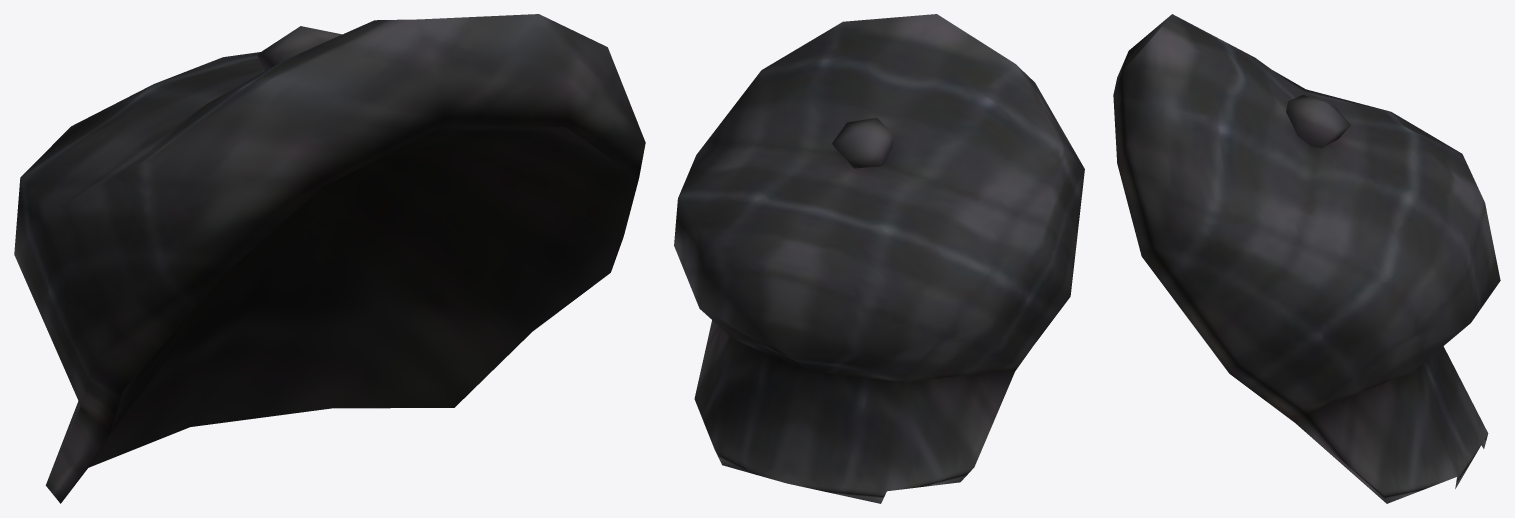
The model's file is butlerCap.glb.
3 views of the same model, side by side, from view 1: azimuth 30°, elevation 25°; view 2: azimuth 150°, elevation 25°; view 3: azimuth 270°, elevation 25° (orthographic). The views are drawn at different scales.
Visible parts, largest first — view 1: butlerCap; view 2: butlerCap; view 3: butlerCap.
Part boxes in pixels (left/top/right/bottom): butlerCap: left=14, top=14, right=645, bottom=503; butlerCap: left=674, top=14, right=1084, bottom=503; butlerCap: left=1113, top=14, right=1500, bottom=503.
Size of the model in its own units: 0.2182 by 0.2259 by 0.1913.
Materials: 1 (1 with a texture image).
